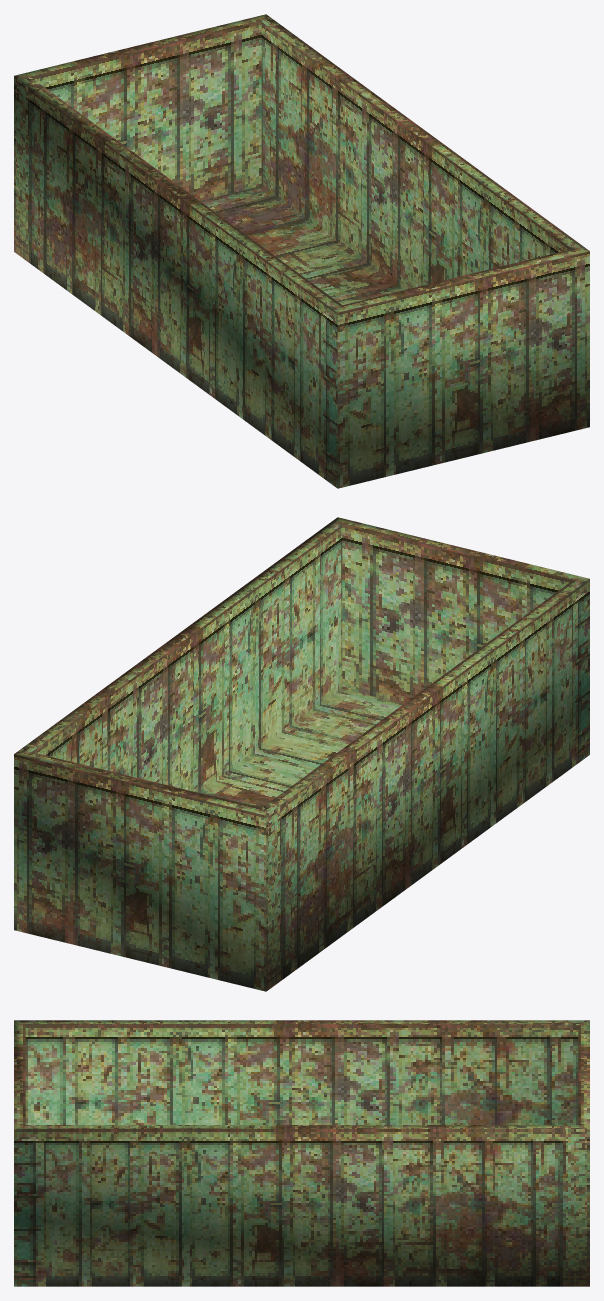
File: trash_container.glb
The picture shows the model from 3 angles, top to bottom: view 1: azimuth 30°, elevation 25°; view 2: azimuth 150°, elevation 25°; view 3: azimuth 270°, elevation 25°; orthographic projection. The views are drawn at different scales.
Visible parts, largest first — view 1: TrashContainer; view 2: TrashContainer; view 3: TrashContainer.
Boxes of the visible parts, x1,y1,x2,y2 form: TrashContainer: (14, 14, 589, 488); TrashContainer: (14, 517, 589, 991); TrashContainer: (14, 1020, 589, 1286).
Bounding box in the file's own units: 2.25 × 1.5 × 5.
Materials: 1 (1 with a texture image).
